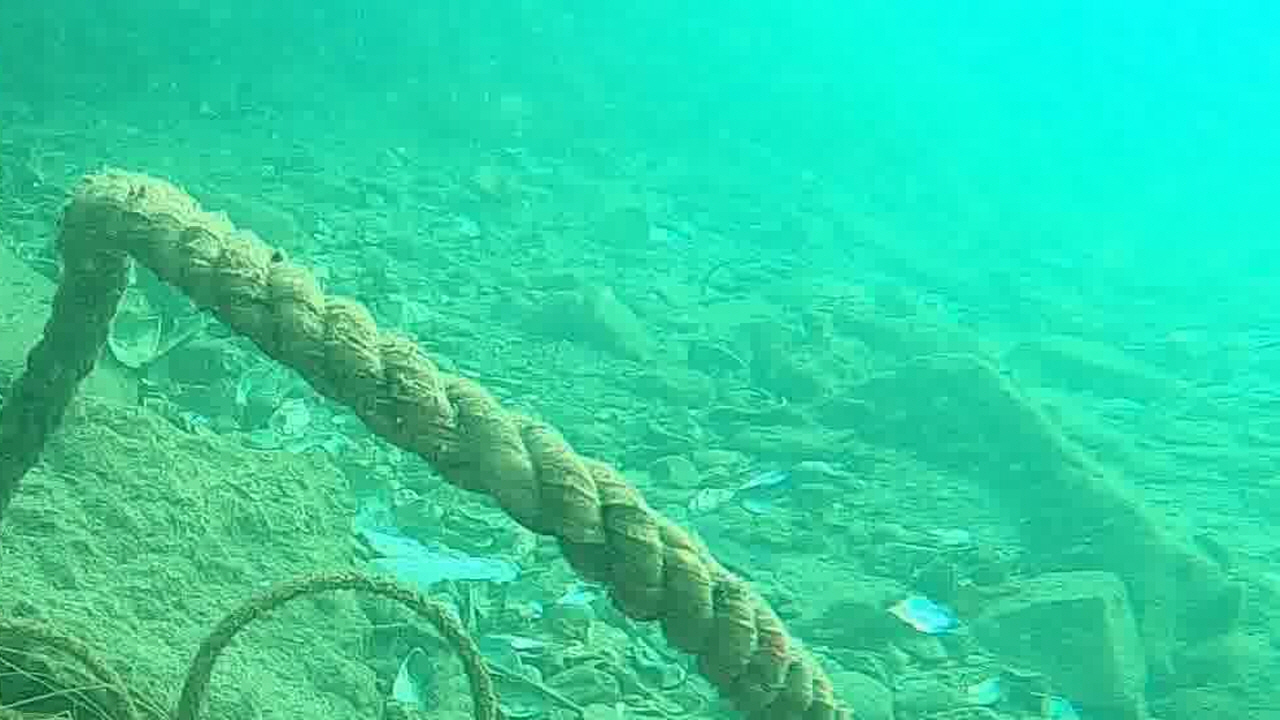rope: (0, 165, 853, 720)
